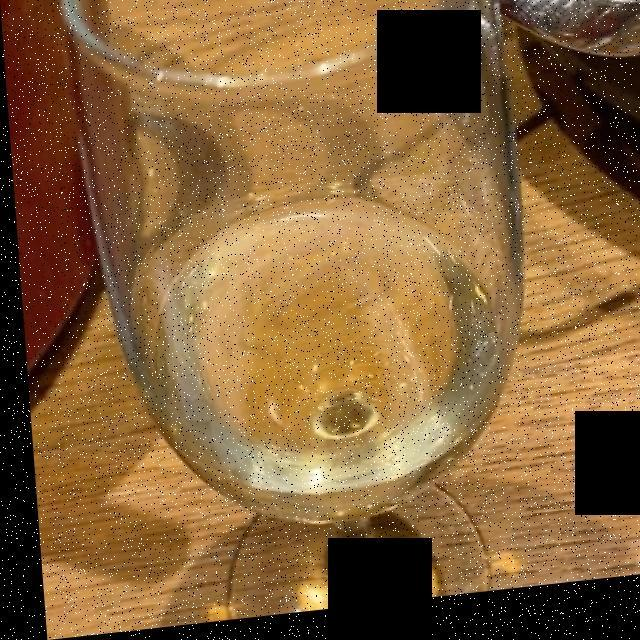wine: (150, 197, 505, 534)
